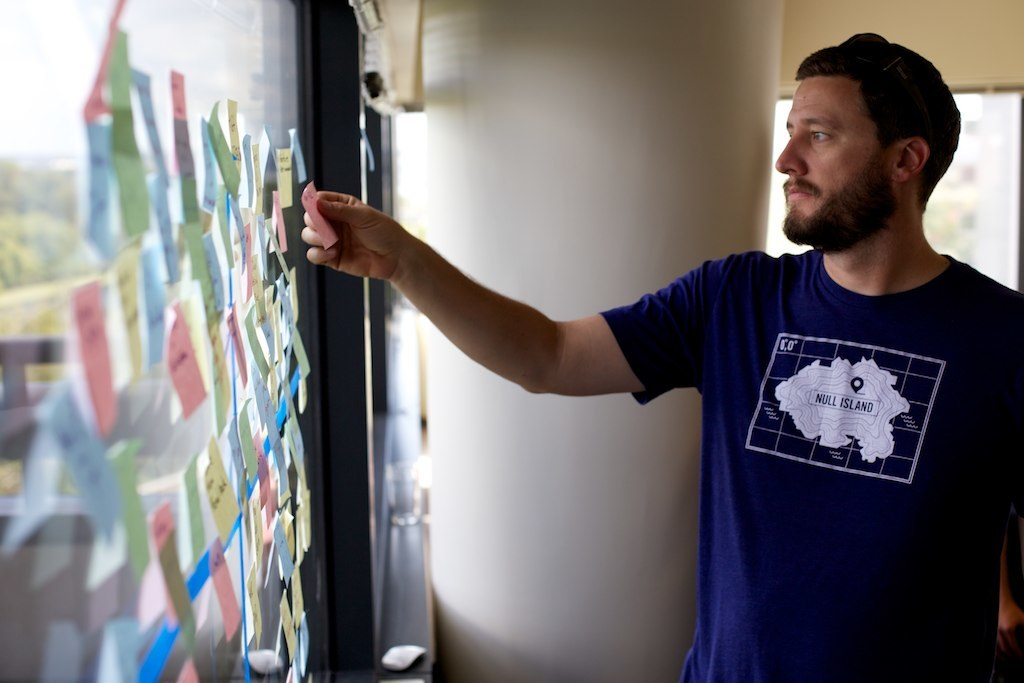Human_hand: (298, 190, 408, 283), (995, 601, 1023, 661)
